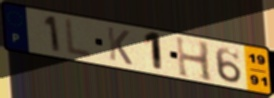1: (142, 31, 165, 75), (43, 15, 63, 55)
6: (214, 46, 244, 85)
H: (174, 34, 215, 84)
K: (105, 25, 134, 67)
L: (64, 17, 94, 61)
